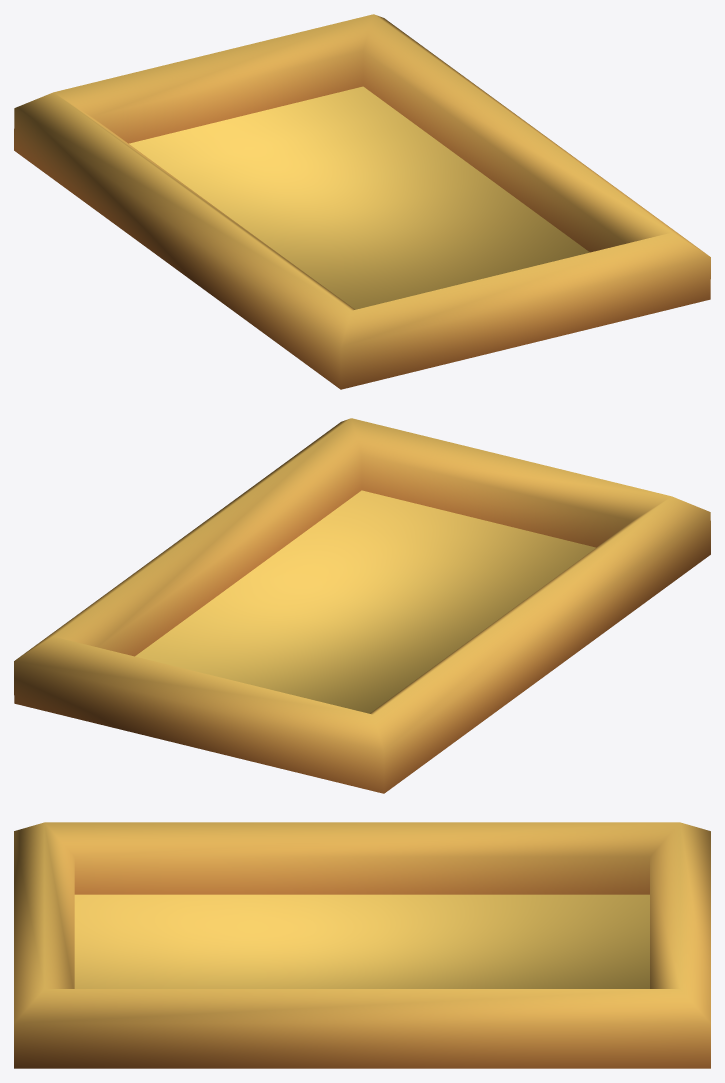
The model's file is MarketCarpet01.fbx.
3 views of the same model, one above another, from view 1: azimuth 30°, elevation 25°; view 2: azimuth 150°, elevation 25°; view 3: azimuth 270°, elevation 25° (orthographic). The views are drawn at different scales.
Parts seen in each view (by area): view 1: MarketCarpet01; view 2: MarketCarpet01; view 3: MarketCarpet01.
Part boxes in pixels (box(x1,y1,x2,y2)): MarketCarpet01: box(14, 14, 710, 389); MarketCarpet01: box(14, 418, 710, 793); MarketCarpet01: box(14, 822, 710, 1068).
Size of the model in its own units: 1.69 by 0.2732 by 2.59.
Materials: 1 (1 with a texture image).
